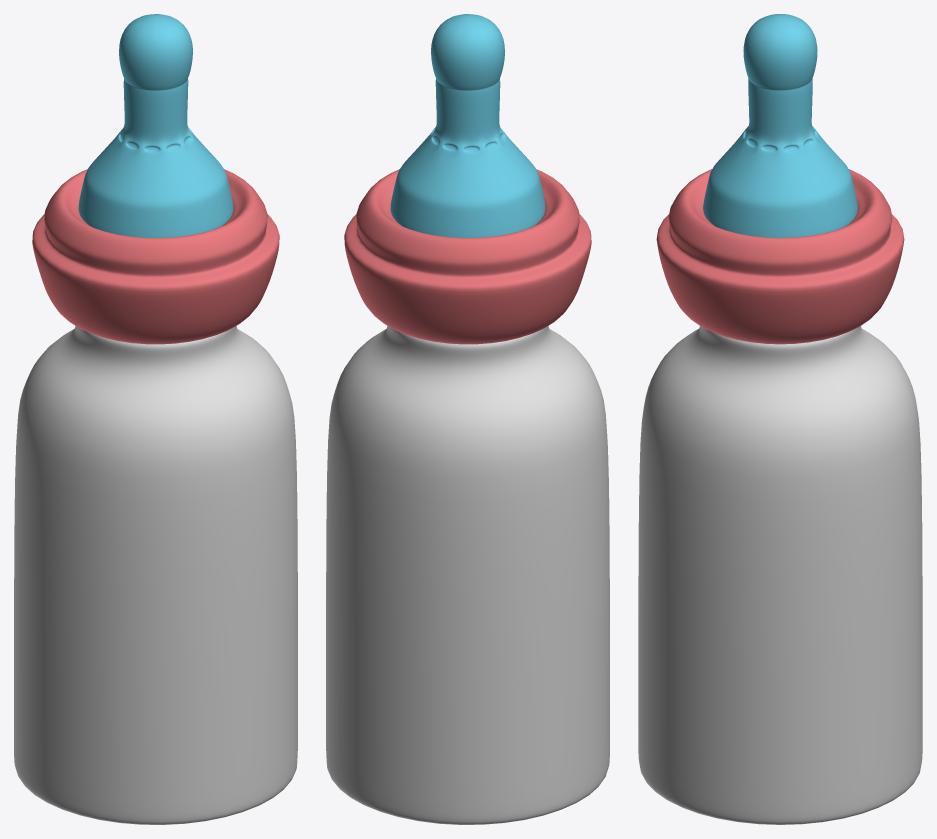
File: bottle for baby for game.fbx
3 views of the same model, side by side, from view 1: azimuth 30°, elevation 25°; view 2: azimuth 150°, elevation 25°; view 3: azimuth 270°, elevation 25° (orthographic).
Parts seen in each view (by area): view 1: 12293_Bottle_v1_L3; view 2: 12293_Bottle_v1_L3; view 3: 12293_Bottle_v1_L3.
Boxes of the visible parts, <box> form: 12293_Bottle_v1_L3: <box>14,14,297,824</box>; 12293_Bottle_v1_L3: <box>326,14,609,824</box>; 12293_Bottle_v1_L3: <box>638,14,922,824</box>.
Size of the model in its own units: 57.2 by 166 by 57.16.
